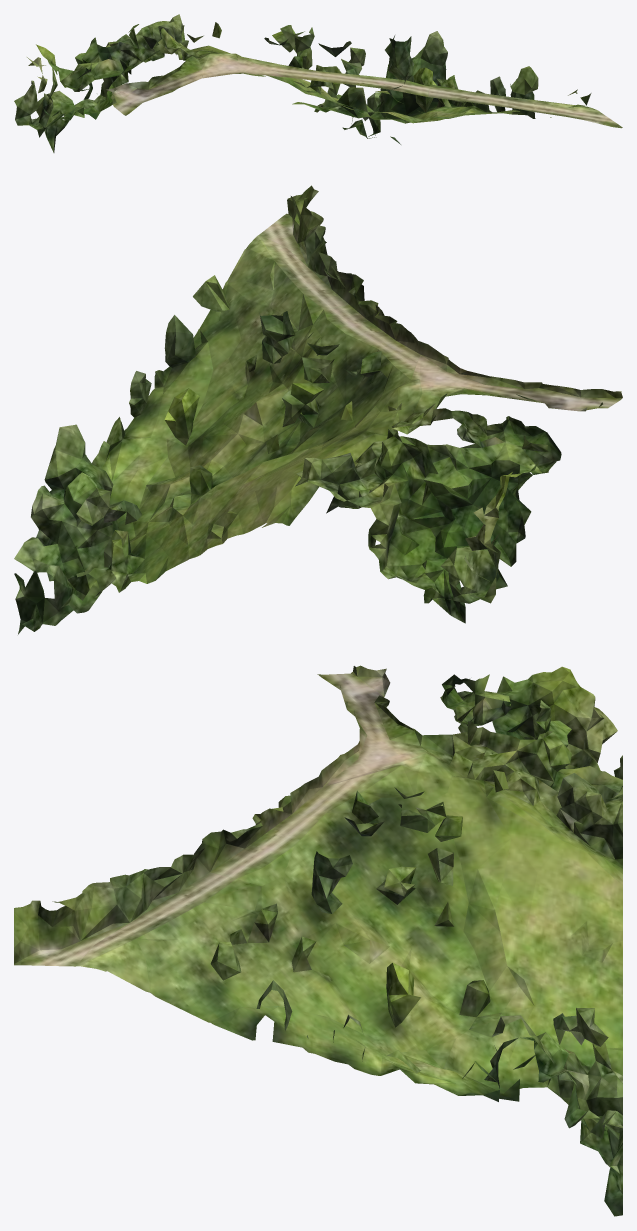
3 views of the same model, one above another, from view 1: azimuth 30°, elevation 25°; view 2: azimuth 150°, elevation 25°; view 3: azimuth 270°, elevation 25° (orthographic). The views are drawn at different scales.
Size of the model in its own units: 104 by 55.6 by 104.
Materials: 3 (3 with a texture image).
